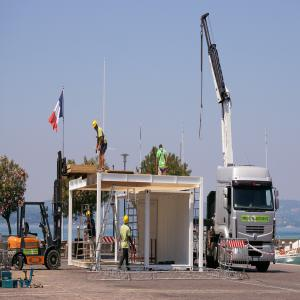none: (160, 144, 163, 151)
yellow: (93, 121, 99, 132), (124, 216, 130, 226), (87, 211, 92, 220)
